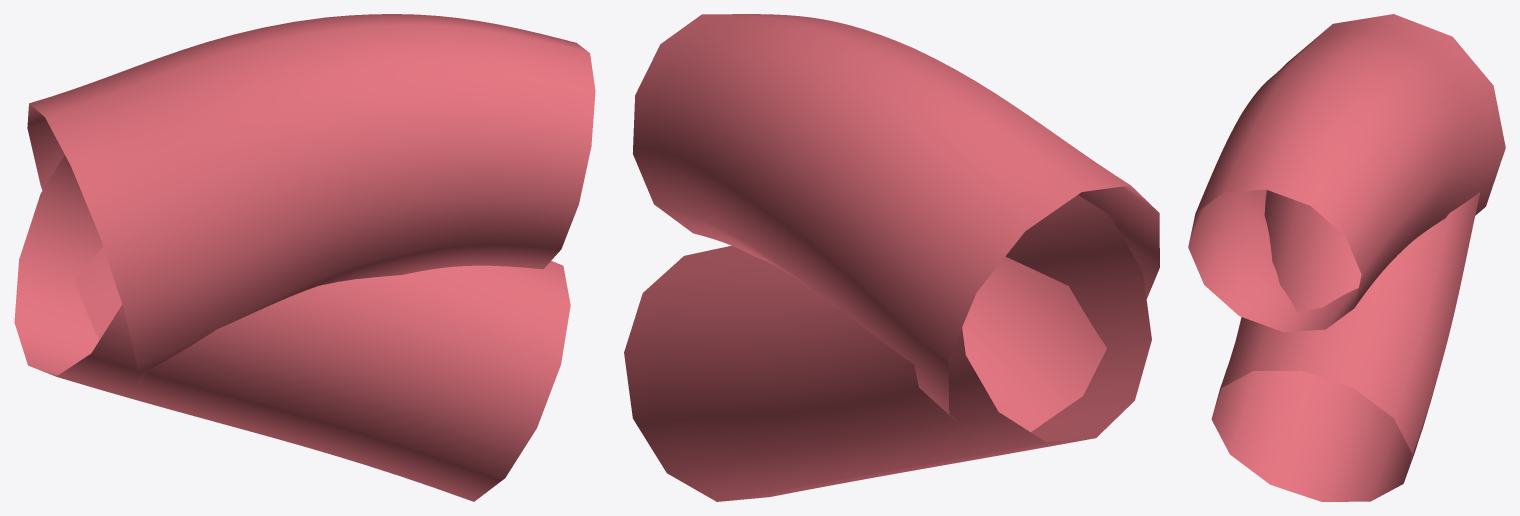
3 renders of one model, left to right at view 1: azimuth 30°, elevation 25°; view 2: azimuth 150°, elevation 25°; view 3: azimuth 270°, elevation 25°, orthographic. The views are drawn at different scales.
Visible parts, largest first — view 1: ZA_57671bc8f95df20e; view 2: ZA_57671bc8f95df20e; view 3: ZA_57671bc8f95df20e.
Boxes of the visible parts, box(x1,y1,x2,y2) form: ZA_57671bc8f95df20e: box(14, 14, 595, 501); ZA_57671bc8f95df20e: box(624, 14, 1159, 501); ZA_57671bc8f95df20e: box(1188, 14, 1505, 501).
Size of the model in its own units: 0.0152 by 0.0139 by 0.0103.
